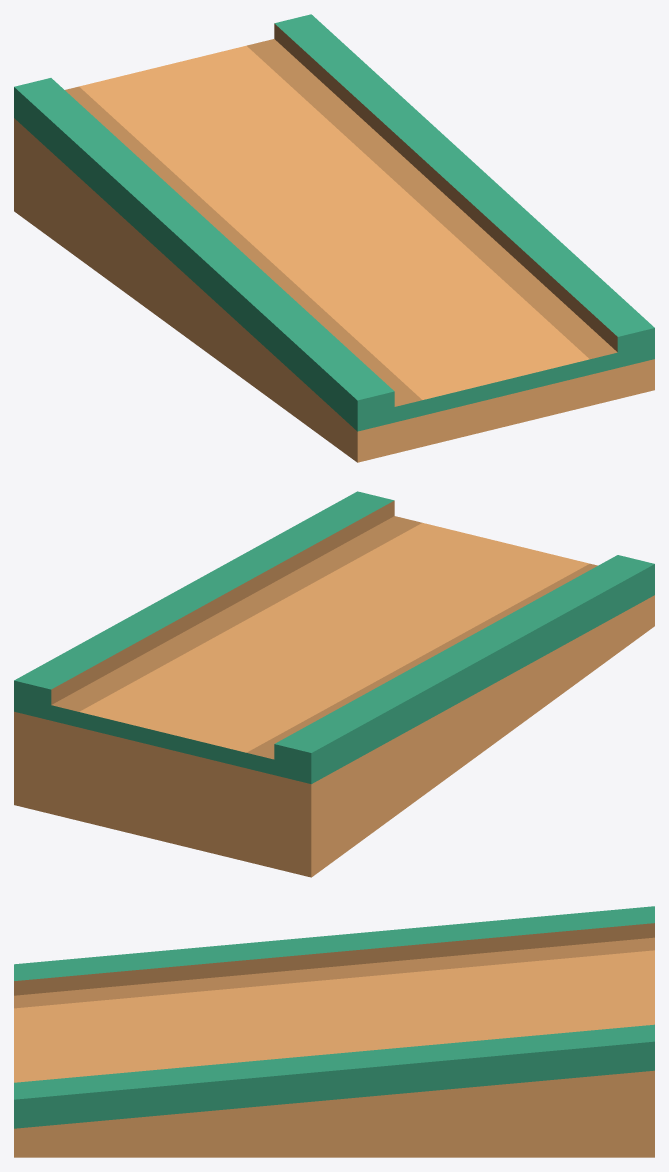
The model's file is tile_straightHillLarge.dae.
The picture shows the model from 3 angles, top to bottom: view 1: azimuth 30°, elevation 25°; view 2: azimuth 150°, elevation 25°; view 3: azimuth 270°, elevation 25°; orthographic projection. The views are drawn at different scales.
Visible parts, largest first — view 1: tile_straightHillLarge; view 2: tile_straightHillLarge; view 3: tile_straightHillLarge.
Part boxes in pixels (<box>): tile_straightHillLarge: <box>14,14,654,462</box>; tile_straightHillLarge: <box>14,491,654,877</box>; tile_straightHillLarge: <box>14,906,654,1157</box>.
Bounding box in the file's own units: 1 × 0.4 × 2.
